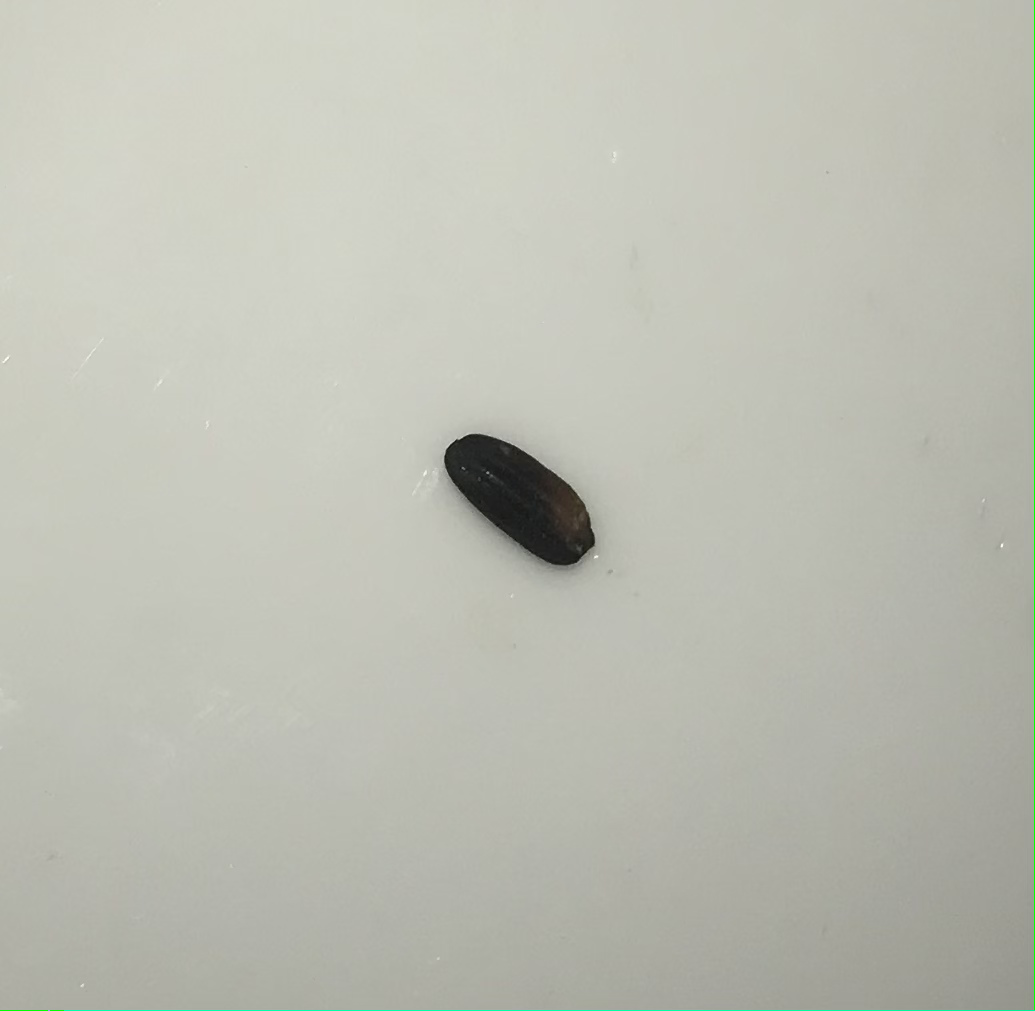Gao Nep Cam: (407, 408, 606, 577)
